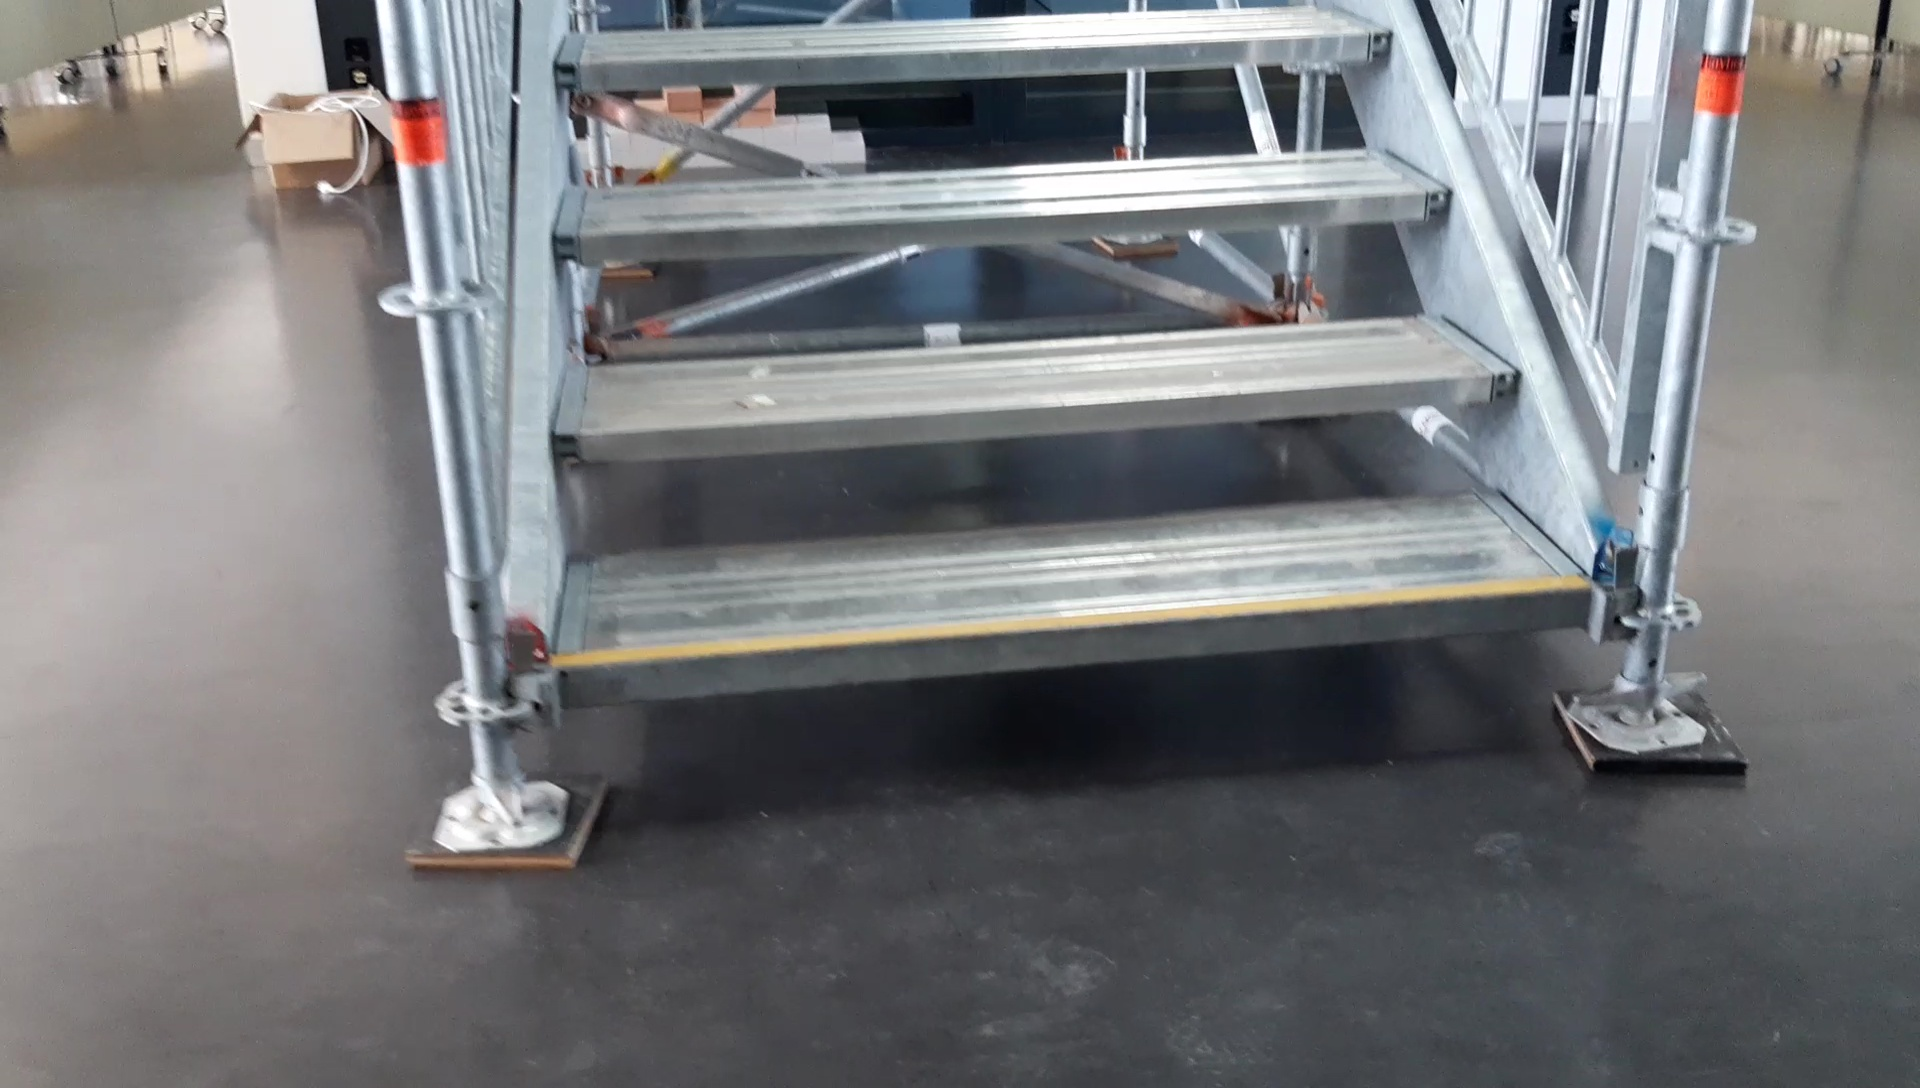brick: (796, 137, 832, 164), (832, 131, 862, 161), (662, 88, 700, 109), (796, 115, 828, 137)
edge: (559, 588, 1596, 702), (555, 371, 1516, 466), (553, 189, 1451, 257), (553, 32, 1393, 84)
stairs: (377, 3, 1749, 865)
